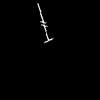treble_crochet: (38, 4, 51, 41)
